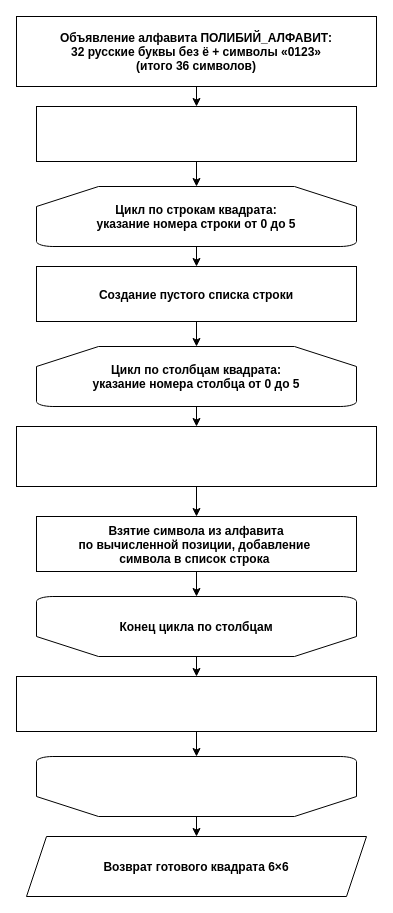
Image size: 393x913. Some labels were removed from this diagram. Here are the shapes that lost their labels. From the top down, the centre of each, then its label:
pixel 196 134: Создание пустого списка "квадрат"
pixel 196 456: Вычисление позиции символа: позиция = номер_строки × 6 + номер_столбца
pixel 196 704: Добавление списка строки в список квадрата
pixel 196 786: Конец цикла по строкам
